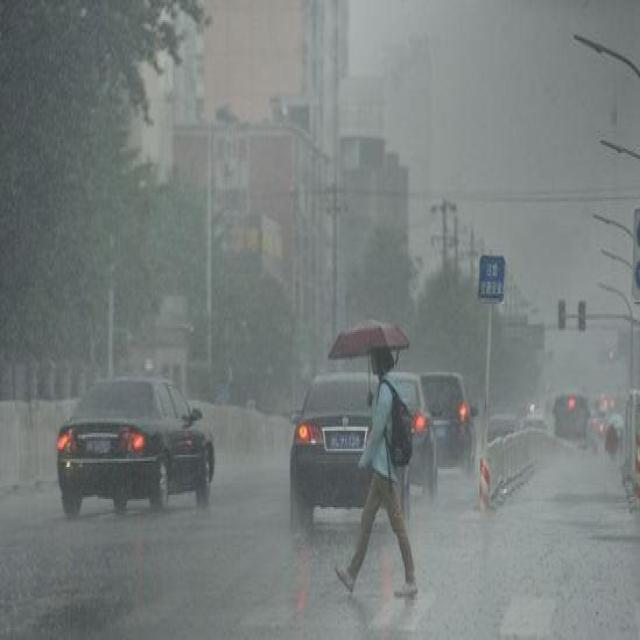car: (55, 374, 214, 514), (286, 370, 412, 530), (368, 370, 438, 495), (410, 370, 478, 473)
